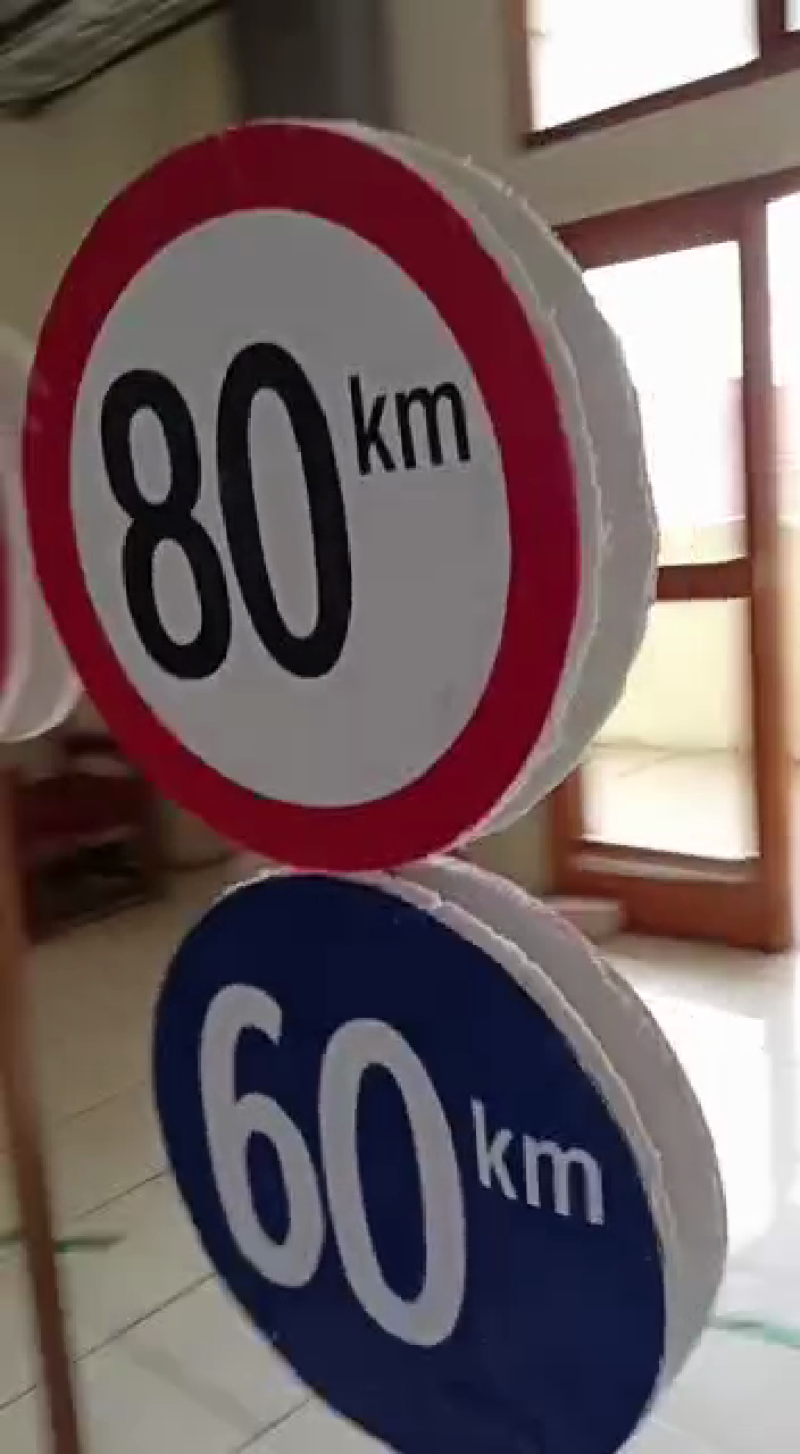batas maksimal 80kmperjam minimal 60kmperjam: (36, 115, 753, 1454)
